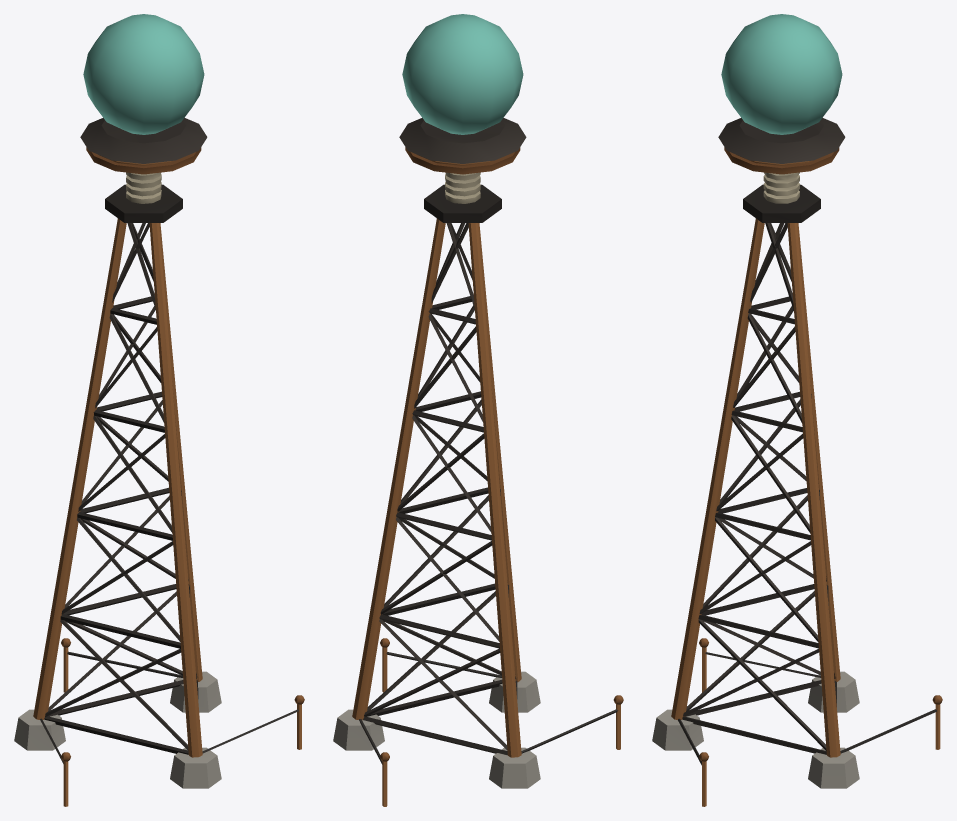
The model's file is relay_mast.glb.
The picture shows the model from 3 angles, left to right: view 1: azimuth 30°, elevation 25°; view 2: azimuth 150°, elevation 25°; view 3: azimuth 270°, elevation 25°; orthographic projection.
Parts seen in each view (by area): view 1: RelayMast, CoilGlow; view 2: RelayMast, CoilGlow; view 3: RelayMast, CoilGlow.
Boxes of the visible parts, left/top/right/bottom form: RelayMast: left=14, top=117, right=304, bottom=806; CoilGlow: left=83, top=14, right=204, bottom=134; RelayMast: left=333, top=118, right=623, bottom=806; CoilGlow: left=402, top=14, right=523, bottom=134; RelayMast: left=652, top=117, right=942, bottom=806; CoilGlow: left=721, top=14, right=842, bottom=134.
Bounding box in the file's own units: 6.44 × 18.6 × 6.72.
